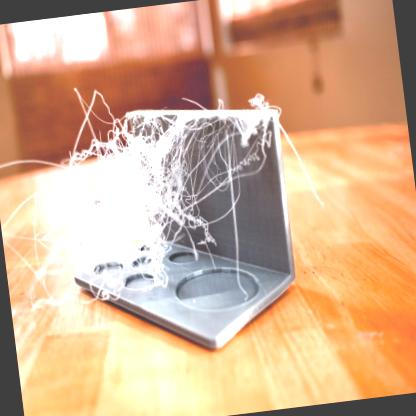fail: (61, 92, 245, 292), (230, 76, 286, 185)
